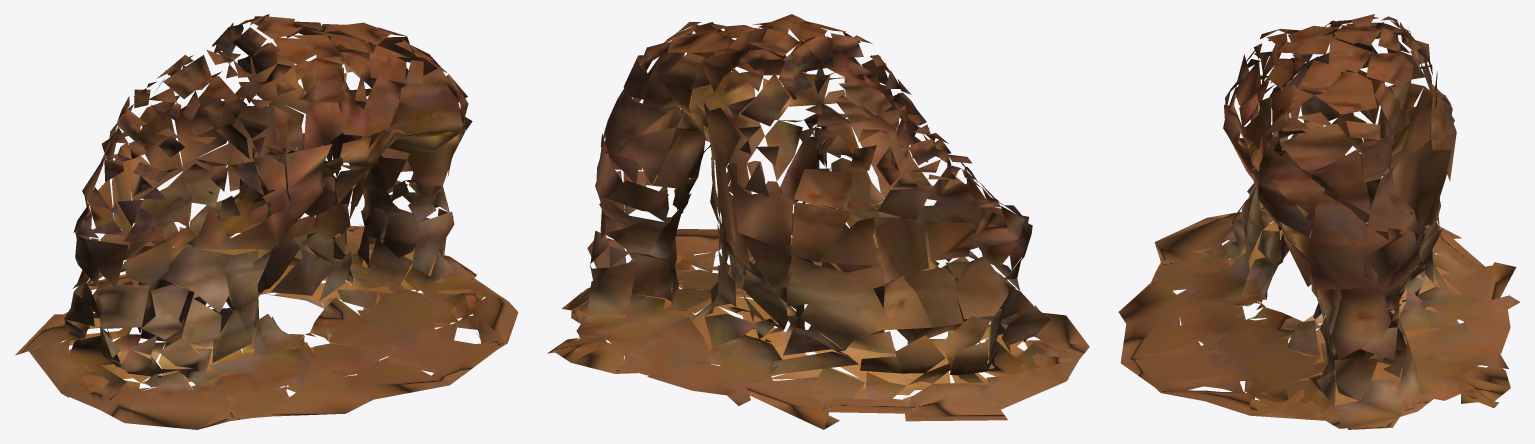
Rendered from Elephant_Rock_Formati_town.glb.
3 renders of one model, left to right at view 1: azimuth 30°, elevation 25°; view 2: azimuth 150°, elevation 25°; view 3: azimuth 270°, elevation 25°, orthographic. The views are drawn at different scales.
Parts seen in each view (by area): view 1: Elephant_Rock_Formati; view 2: Elephant_Rock_Formati; view 3: Elephant_Rock_Formati.
Part boxes in pixels (left/top/right/bottom): Elephant_Rock_Formati: left=15, top=14, right=518, bottom=429; Elephant_Rock_Formati: left=547, top=14, right=1089, bottom=429; Elephant_Rock_Formati: left=1118, top=14, right=1519, bottom=429.
Bounding box in the file's own units: 1.86 × 1.19 × 1.42.
Materials: 1 (1 with a texture image).
